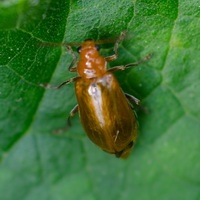insect: (43, 32, 149, 157)
